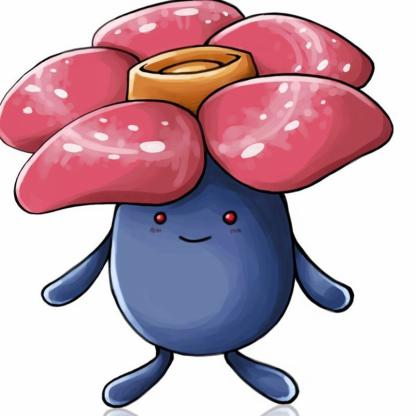Vileplume: (1, 1, 416, 396)
